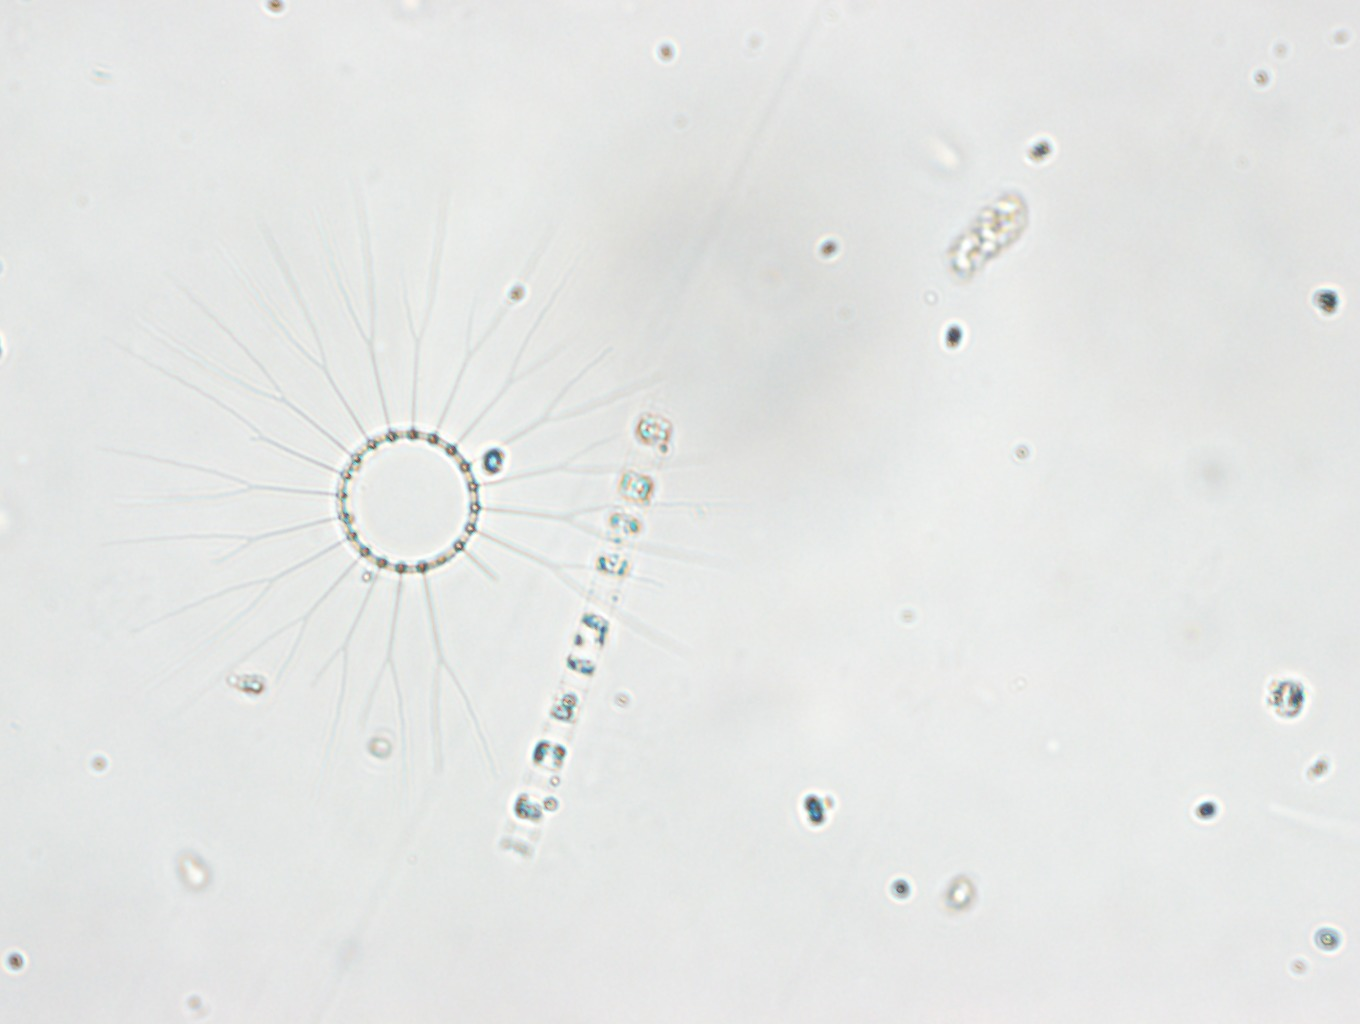bacteriastrum: (128, 234, 681, 728)
skeletonema: (502, 403, 672, 861)
